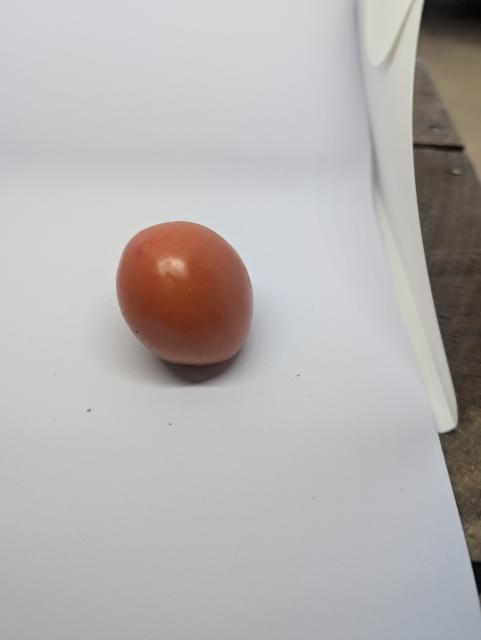red: (103, 208, 269, 385)
